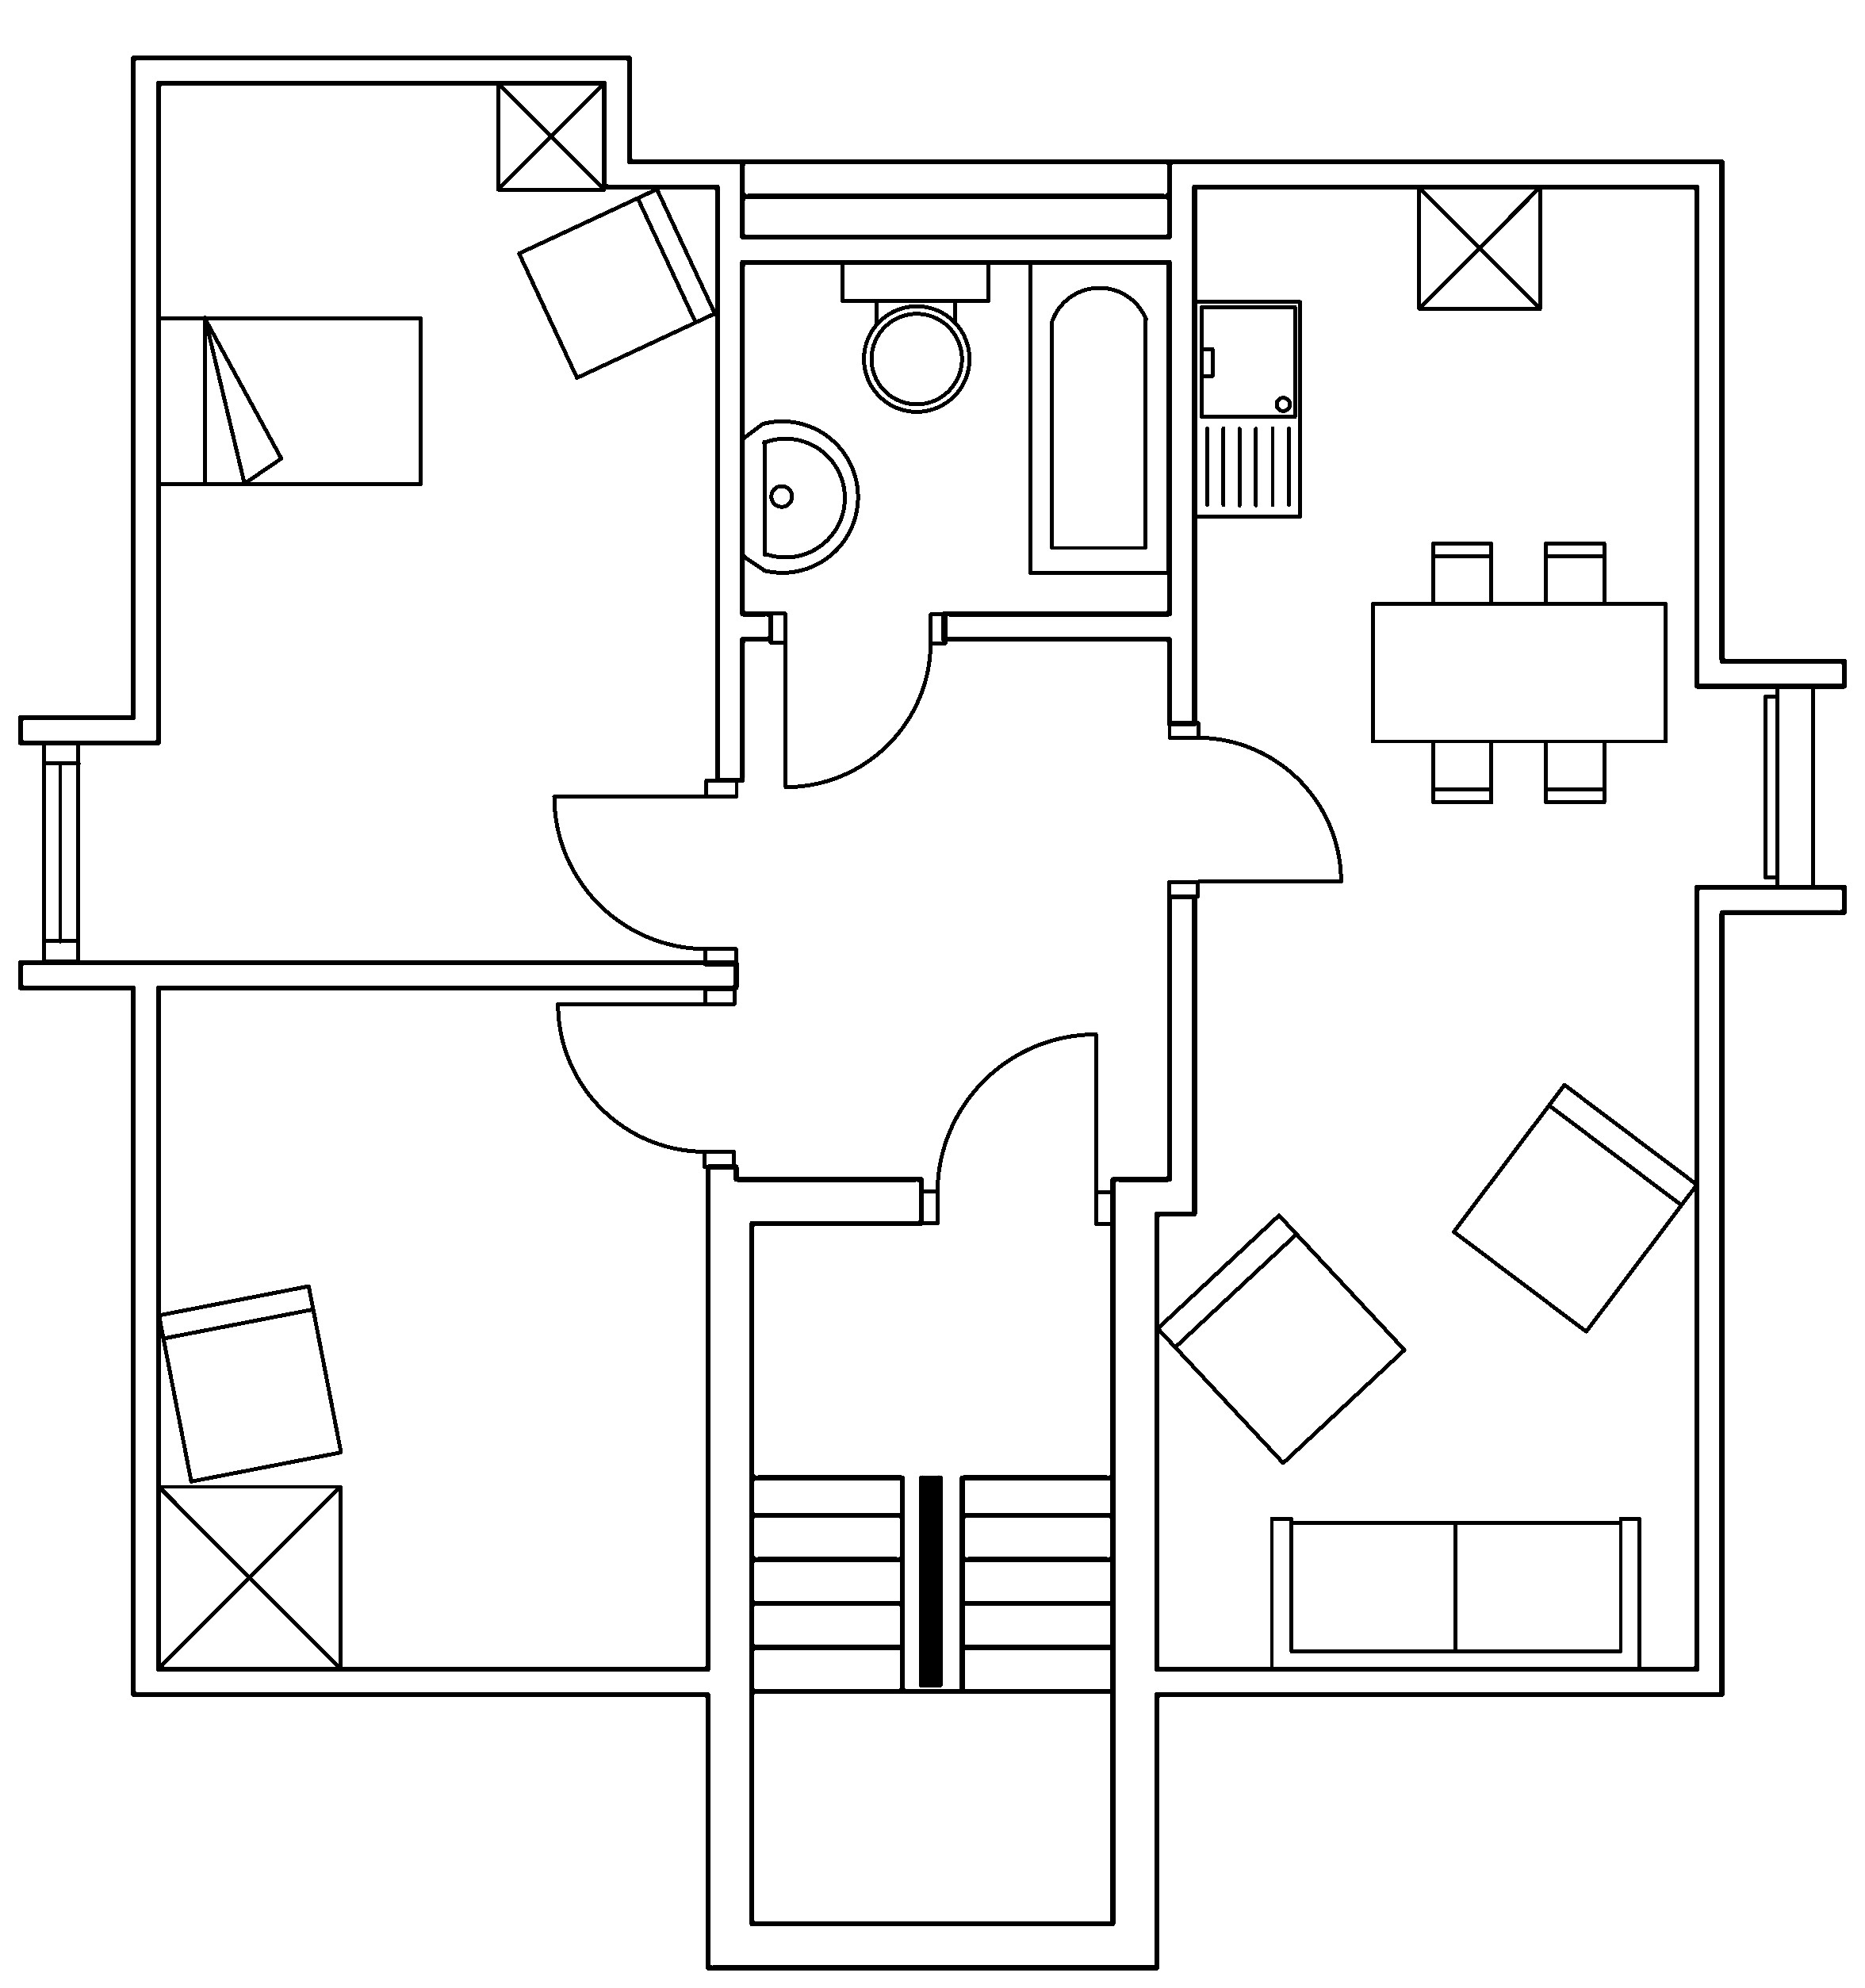bed: (154, 314, 422, 487)
coffee_table: (154, 1481, 342, 1671), (1416, 182, 1542, 310), (494, 79, 606, 191)
dining_table: (1369, 540, 1669, 805)
large_sink: (840, 258, 990, 412)
large_sofa: (1267, 1515, 1642, 1672)
sink: (1192, 298, 1302, 519)
small_sink: (740, 419, 859, 573)
small_sofa: (1153, 1211, 1408, 1466), (1450, 1082, 1698, 1334), (515, 186, 717, 380), (156, 1282, 344, 1483)
tub: (1027, 258, 1171, 575)
